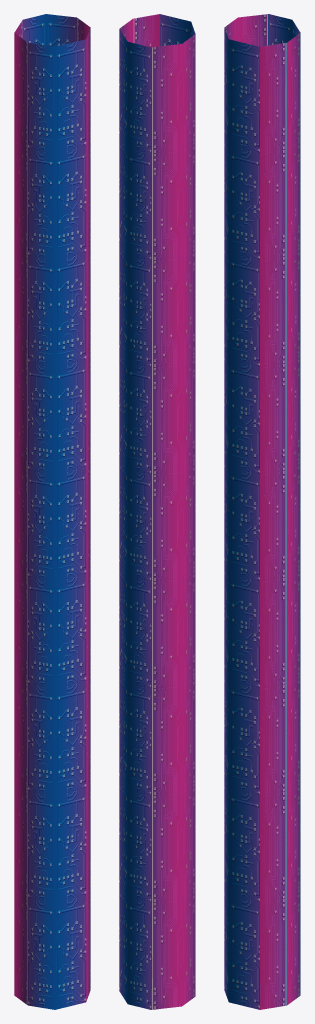
Rendered from cbhangp2.fbx.
The picture shows the model from 3 angles, left to right: view 1: azimuth 30°, elevation 25°; view 2: azimuth 150°, elevation 25°; view 3: azimuth 330°, elevation 25°; orthographic projection.
Visible parts, largest first — view 1: glass1__e2g; view 2: glass1__e2g; view 3: glass1__e2g.
Part boxes in pixels (x1=…): glass1__e2g: x1=14, y1=14, x2=90, y2=1009; glass1__e2g: x1=119, y1=14, x2=195, y2=1009; glass1__e2g: x1=224, y1=14, x2=300, y2=1009.
Bounding box in the file's own units: 8 × 118 × 8.
